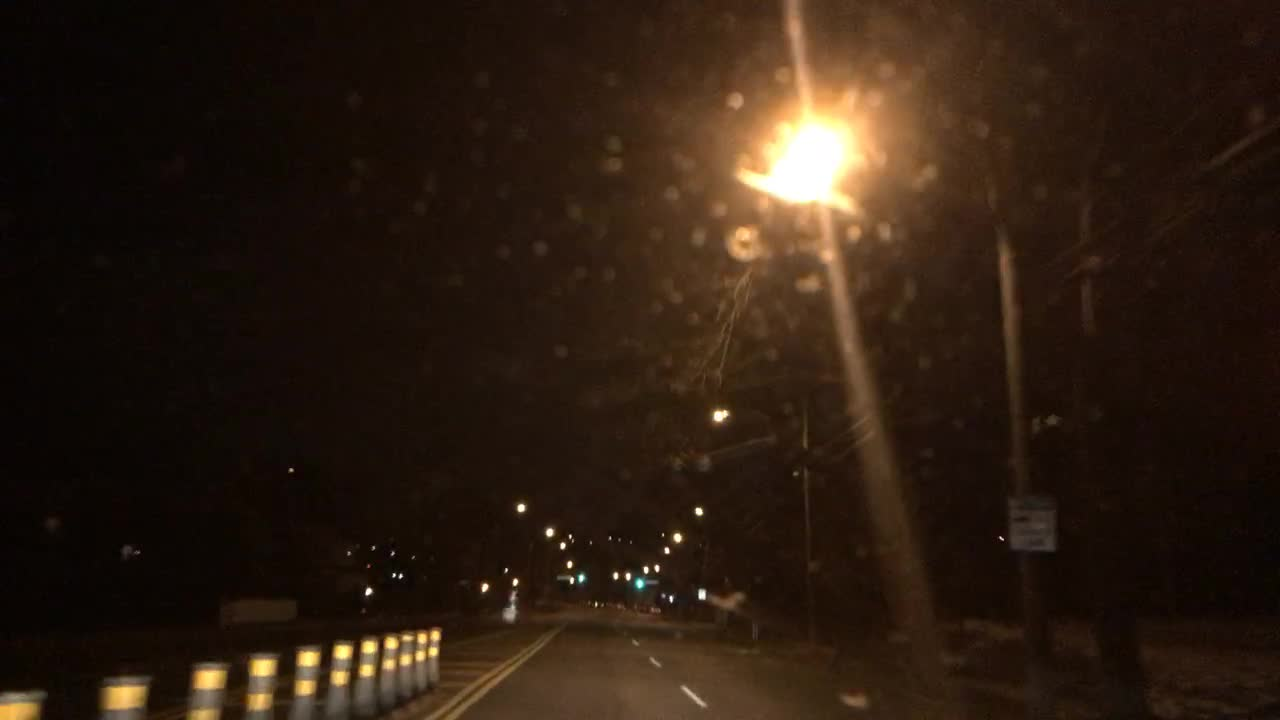traffic light: (635, 573, 644, 588), (578, 567, 586, 583)
traffic sign: (1008, 496, 1054, 549), (557, 572, 574, 580), (646, 579, 660, 584)
